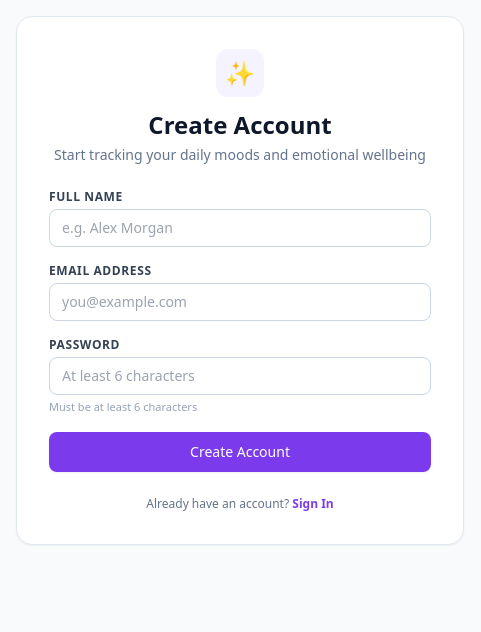
Test: Frontend: Authentication Pages › RegisterPage › validates invalid email format before submitting
Type "Valid Name" into the field with placeholder "e.g. Alex Morgan".
click(240, 228); type("Valid Name")  # box x1=49 y1=209 x2=431 y2=247
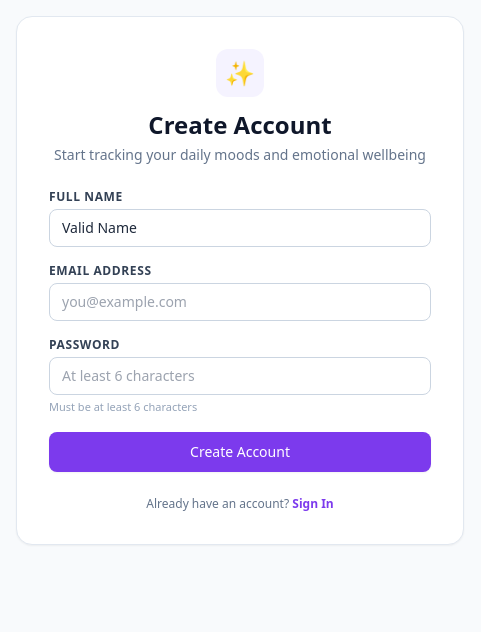
Type "invalid-email-string" into the field with placeholder "you@example.com".
click(240, 302); type("invalid-email-string")  # box x1=49 y1=283 x2=431 y2=321
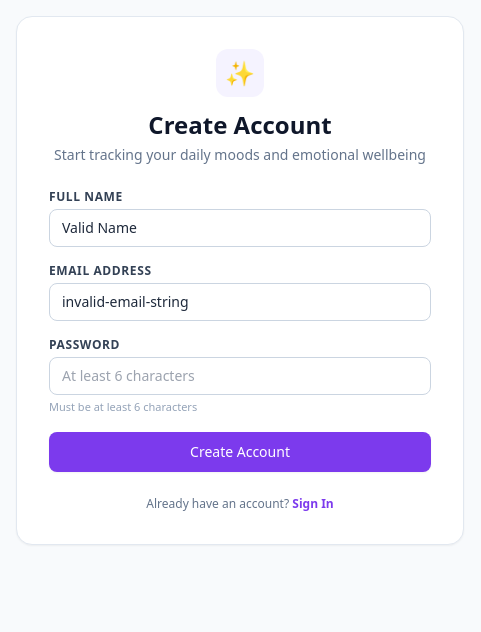
Type "SecurePassword123!" into the password field with placeholder "At least 6 characters".
click(240, 376); type("SecurePassword123!")  # box x1=49 y1=357 x2=431 y2=395
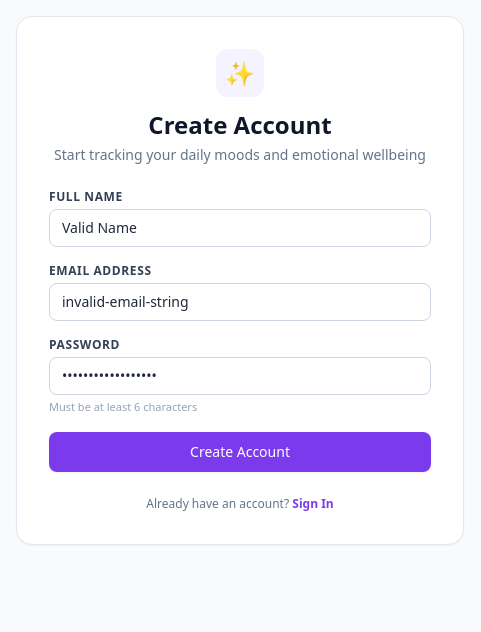
Submit the form "Create Account", box x1=49 y1=189 x2=431 y2=472
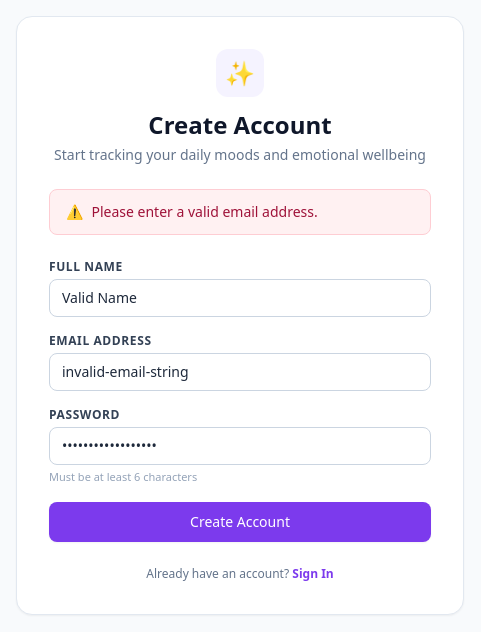
Result: the text "Please enter a valid email address." is shown at x1=92 y1=202 x2=318 y2=222
